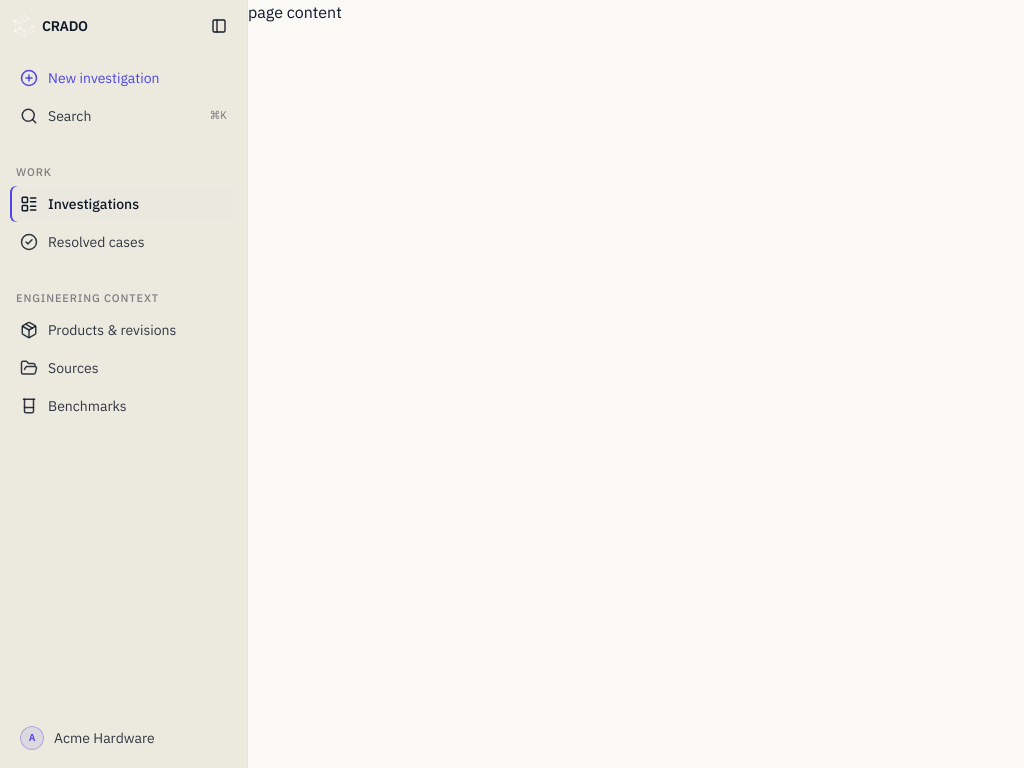
it: AppShellChrome (shadcn Sidebar) › opens the command palette dialog from the sidebar Search action
Click the button "Search ⌘K".
click(124, 116)  # box [10,98,237,134]
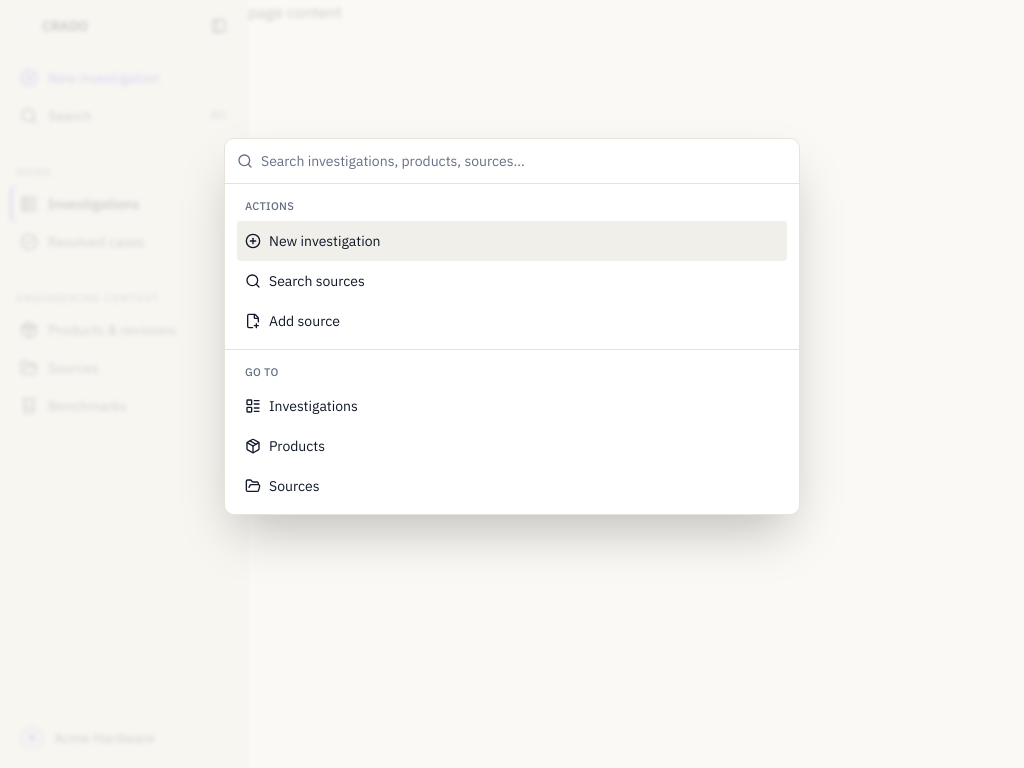
Expected: the dialog is shown, [224,138,800,515]
